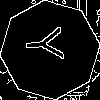Y: (25, 25, 73, 63)
